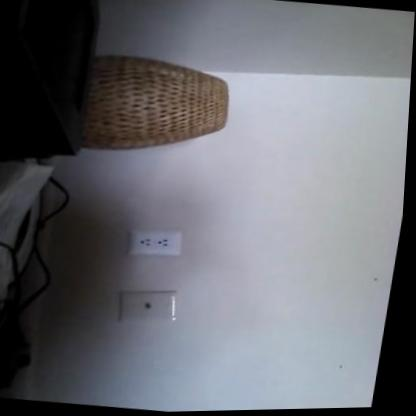OUTLET: (125, 227, 183, 258)
